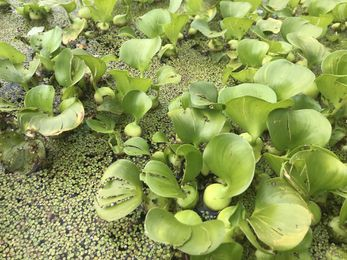water_hyacinth: (1, 0, 346, 260)
